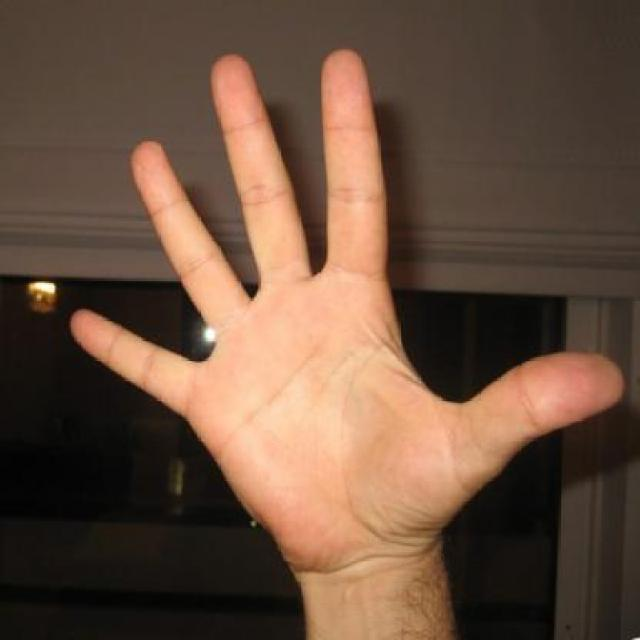no-gloves: (34, 39, 629, 592)
